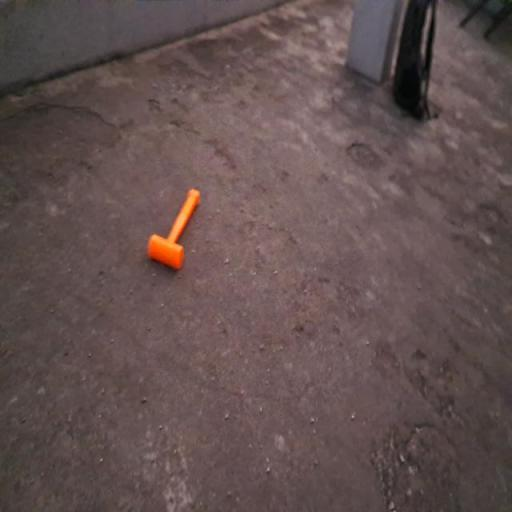mallet: (149, 186, 202, 270)
